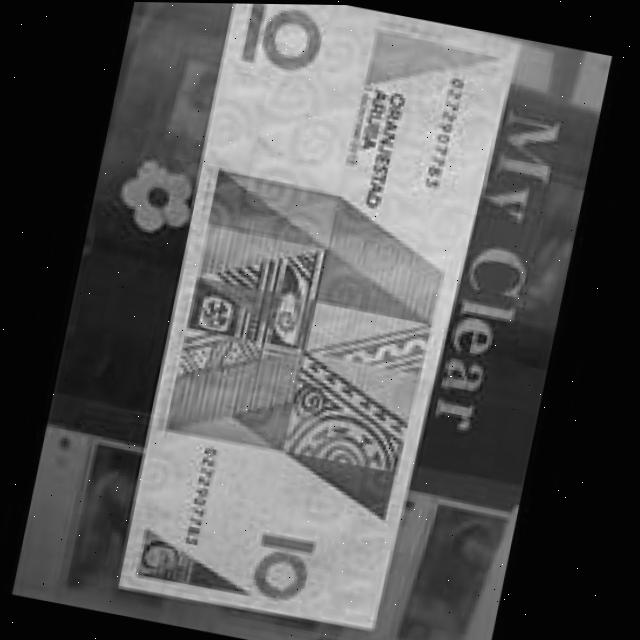banknote: (110, 1, 528, 640)
